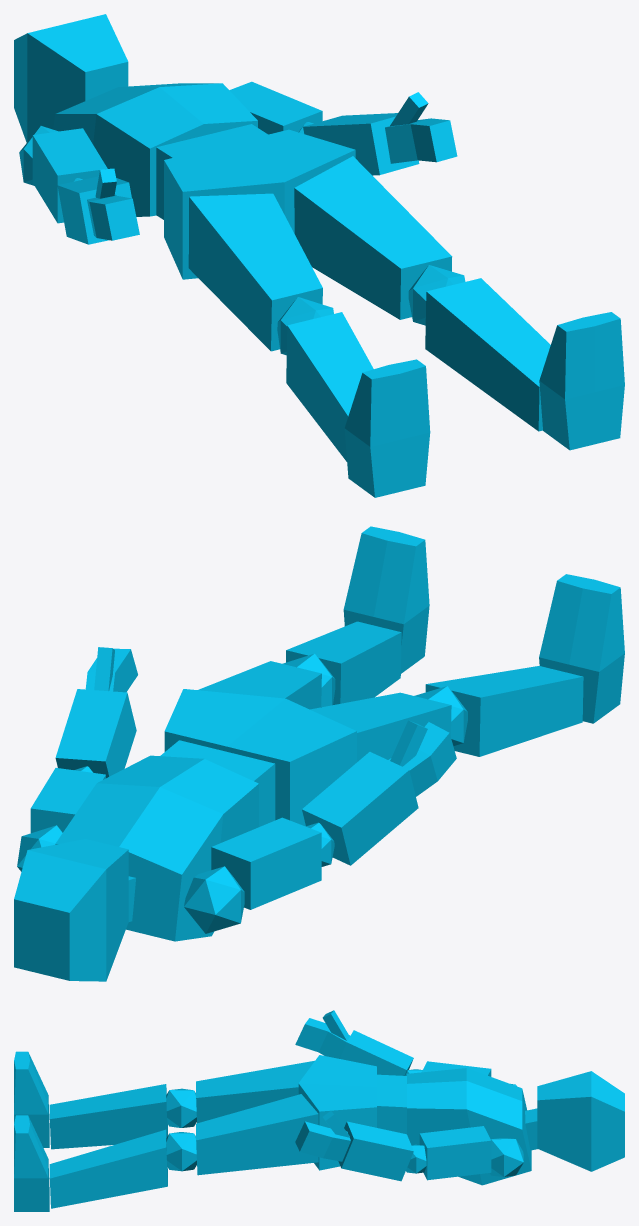
File: Player.fbx
3 renders of one model, top to bottom at view 1: azimuth 30°, elevation 25°; view 2: azimuth 150°, elevation 25°; view 3: azimuth 270°, elevation 25°, orthographic. The views are drawn at different scales.
Visible parts, largest first — view 1: Cube.005, Cube.012, Cube.002, Cube.006, Cube.004, Cube.014, Cube.007, Cube, Cube.013, Cube.015, Cube.009, Cube.010 (+7 smaller); view 2: Cube.002, Cube, Cube.004, Cube.013, Cube.014, Cube.007, Cube.016, Cube.015, Cube.006, Cube.009, Cube.012, Cube.005 (+10 smaller); view 3: Cube.002, Cube, Cube.005, Cube.006, Cube.013, Cube.004, Cube.012, Cube.008, Cube.009, Cube.007, Cube.014, Cube.016 (+11 smaller).
Part boxes in pixels (left/top/right/bottom): Cube.005: left=294, top=156, right=452, bottom=319; Cube.012: left=188, top=193, right=322, bottom=351; Cube.002: left=53, top=83, right=257, bottom=216; Cube.006: left=425, top=278, right=550, bottom=431; Cube.004: left=164, top=129, right=355, bottom=279; Cube.014: left=344, top=359, right=430, bottom=497; Cube.007: left=539, top=312, right=624, bottom=450; Cube: left=14, top=14, right=128, bottom=142; Cube.013: left=286, top=312, right=373, bottom=461; Cube.015: left=32, top=128, right=107, bottom=223; Cube.009: left=303, top=113, right=419, bottom=175; Cube.010: left=385, top=118, right=457, bottom=163; Cube.002: left=55, top=755, right=258, bottom=941; Cube: left=14, top=839, right=128, bottom=981; Cube.004: left=164, top=689, right=356, bottom=826; Cube.013: left=425, top=666, right=583, bottom=756; Cube.014: left=539, top=574, right=624, bottom=723; Cube.007: left=343, top=526, right=429, bottom=673; Cube.016: left=302, top=752, right=418, bottom=865; Cube.015: left=211, top=817, right=321, bottom=909; Cube.006: left=286, top=621, right=401, bottom=704; Cube.009: left=55, top=689, right=136, bottom=778; Cube.012: left=310, top=692, right=451, bottom=761; Cube.005: left=197, top=661, right=321, bottom=709; Cube.002: left=407, top=1068, right=531, bottom=1185; Cube: left=537, top=1071, right=624, bottom=1171; Cube.005: left=196, top=1094, right=318, bottom=1175; Cube.006: left=49, top=1129, right=167, bottom=1208; Cube.013: left=49, top=1084, right=167, bottom=1149; Cube.004: left=298, top=1055, right=376, bottom=1170; Cube.012: left=196, top=1060, right=314, bottom=1123; Cube.008: left=419, top=1126, right=491, bottom=1180; Cube.009: left=338, top=1121, right=413, bottom=1181; Cube.007: left=14, top=1115, right=49, bottom=1211; Cube.014: left=14, top=1051, right=49, bottom=1147; Cube.016: left=340, top=1030, right=413, bottom=1075.
Bounding box in the file's own units: 109 × 49.37 × 249.
